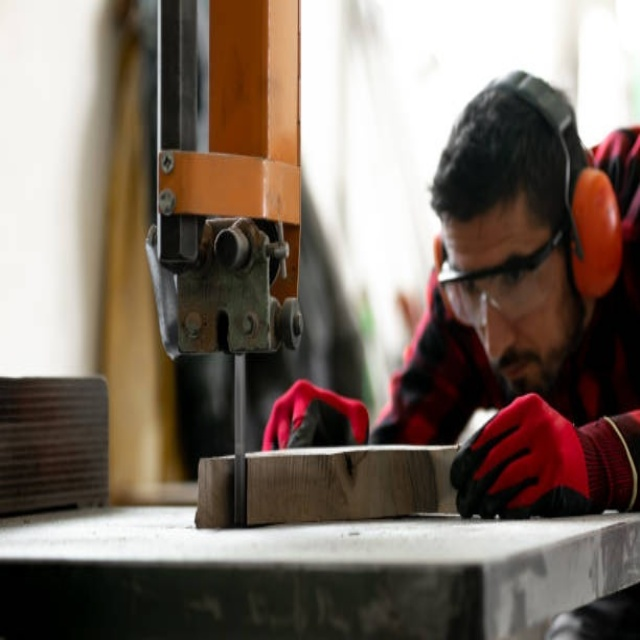Gafas: (435, 223, 566, 328)
Guantes: (449, 394, 600, 520), (261, 378, 368, 450)
Sin_mascara: (484, 339, 545, 391)
